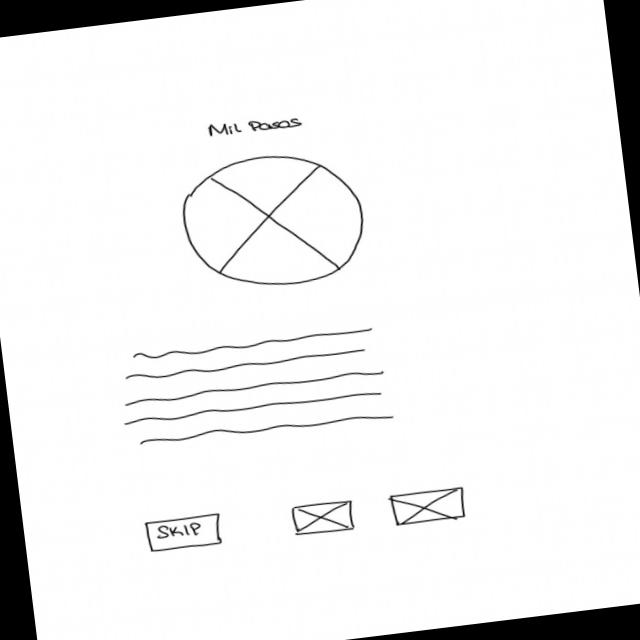button: (145, 512, 227, 556)
image: (175, 143, 374, 300), (386, 484, 471, 530), (289, 497, 361, 538)
label: (205, 112, 304, 141)
textbox: (113, 320, 401, 457)
